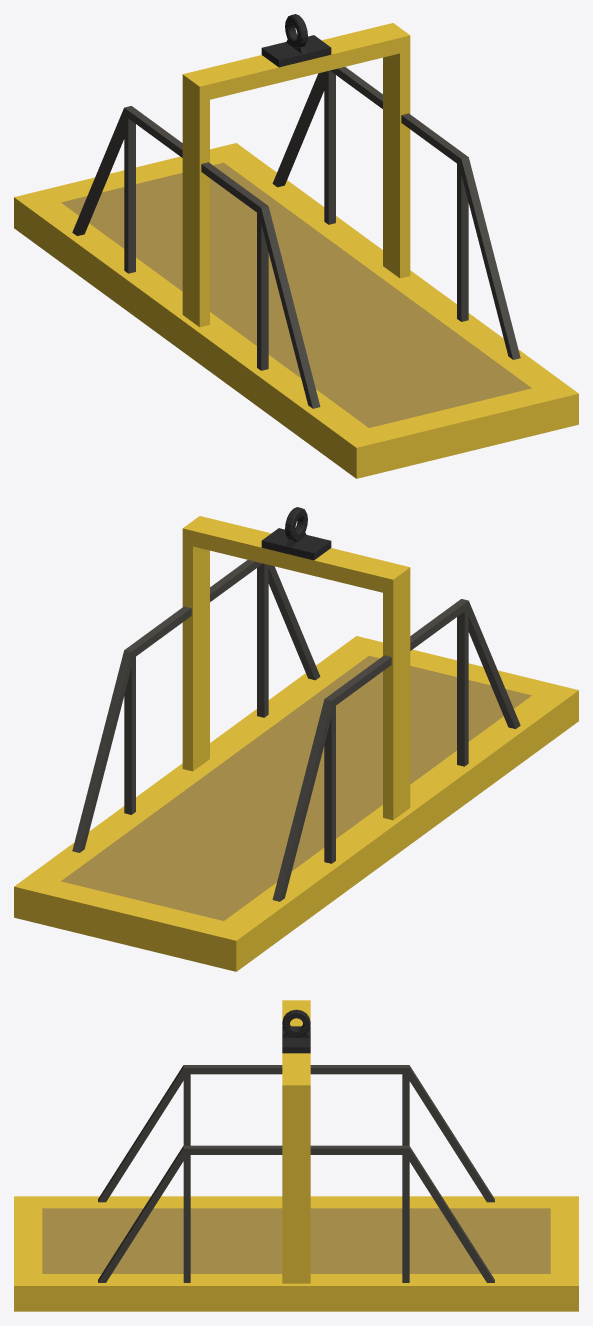
File: Scale-Platform.fbx
3 views of the same model, one above another, from view 1: azimuth 30°, elevation 25°; view 2: azimuth 150°, elevation 25°; view 3: azimuth 270°, elevation 25° (orthographic). The views are drawn at different scales.
Parts seen in each view (by area): view 1: Scale-Platform, Scale-Platform.011, Scale-Platform.013, Scale-Platform.012, Scale-Platform.Diagonal4, Scale-Platform.Diagonal3, Scale-Platform.Hook, Scale-Platform.010, Scale-Platform.003, Scale-Platform.002, Scale-Platform.001, Scale-Platform.004 (+3 smaller); view 2: Scale-Platform, Scale-Platform.011, Scale-Platform.013, Scale-Platform.012, Scale-Platform.Diagonal1, Scale-Platform.Diagonal2, Scale-Platform.Hook, Scale-Platform.010, Scale-Platform.004, Scale-Platform.001, Scale-Platform.002, Scale-Platform.003 (+3 smaller); view 3: Scale-Platform, Scale-Platform.012, Scale-Platform.010, Scale-Platform.005, Scale-Platform.011, Scale-Platform.Diagonal3, Scale-Platform.Diagonal2, Scale-Platform.Diagonal1, Scale-Platform.Diagonal4, Scale-Platform.Hook, Scale-Platform.002, Scale-Platform.001 (+2 smaller).
Boxes of the visible parts, bbox=[...] form: Scale-Platform: bbox=[14, 143, 578, 478]; Scale-Platform.011: bbox=[182, 23, 410, 101]; Scale-Platform.013: bbox=[182, 90, 209, 327]; Scale-Platform.012: bbox=[383, 51, 410, 278]; Scale-Platform.Diagonal4: bbox=[461, 157, 520, 359]; Scale-Platform.Diagonal3: bbox=[261, 206, 320, 408]; Scale-Platform.Hook: bbox=[261, 14, 331, 67]; Scale-Platform.010: bbox=[124, 106, 267, 215]; Scale-Platform.003: bbox=[124, 116, 135, 273]; Scale-Platform.002: bbox=[324, 70, 335, 224]; Scale-Platform.001: bbox=[457, 164, 468, 321]; Scale-Platform.004: bbox=[257, 213, 268, 370]; Scale-Platform: bbox=[14, 636, 578, 971]; Scale-Platform.011: bbox=[182, 516, 410, 594]; Scale-Platform.013: bbox=[383, 583, 410, 820]; Scale-Platform.012: bbox=[182, 544, 209, 771]; Scale-Platform.Diagonal1: bbox=[72, 650, 131, 852]; Scale-Platform.Diagonal2: bbox=[272, 699, 331, 901]; Scale-Platform.Hook: bbox=[261, 507, 331, 560]; Scale-Platform.010: bbox=[325, 599, 468, 708]; Scale-Platform.004: bbox=[457, 609, 468, 766]; Scale-Platform.001: bbox=[257, 563, 268, 717]; Scale-Platform.002: bbox=[124, 657, 135, 814]; Scale-Platform.003: bbox=[324, 706, 335, 863]; Scale-Platform: bbox=[14, 1196, 578, 1311]; Scale-Platform.012: bbox=[282, 1098, 310, 1283]; Scale-Platform.010: bbox=[183, 1065, 409, 1074]; Scale-Platform.005: bbox=[183, 1145, 409, 1154]; Scale-Platform.011: bbox=[282, 1000, 310, 1097]; Scale-Platform.Diagonal3: bbox=[98, 1065, 183, 1202]; Scale-Platform.Diagonal2: bbox=[409, 1066, 494, 1202]; Scale-Platform.Diagonal1: bbox=[409, 1146, 494, 1282]; Scale-Platform.Diagonal4: bbox=[98, 1146, 183, 1282]; Scale-Platform.Hook: bbox=[282, 1009, 310, 1053]; Scale-Platform.002: bbox=[402, 1155, 409, 1282]; Scale-Platform.001: bbox=[183, 1155, 190, 1282].
Size of the model in its own units: 3 by 4 by 8.
2 materials, 2 textured.
